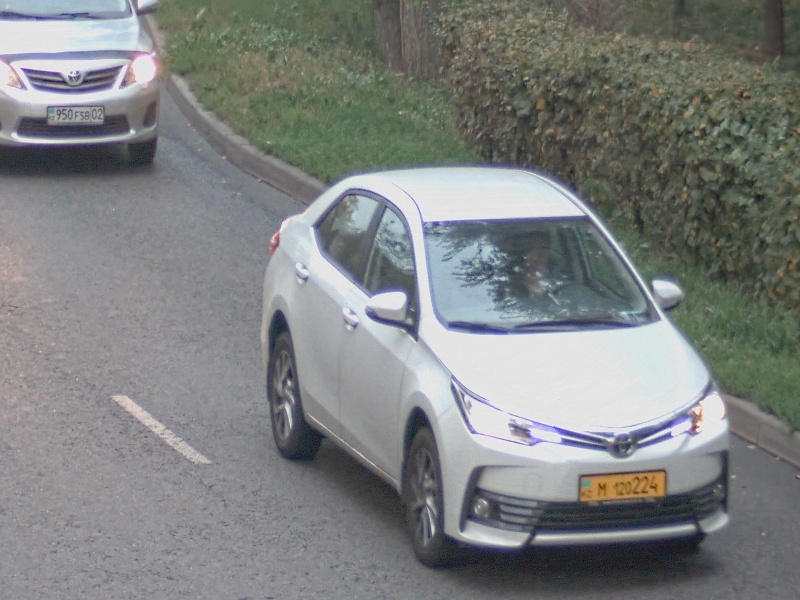plate: (45, 105, 105, 126)
y plate: (577, 467, 667, 504)
